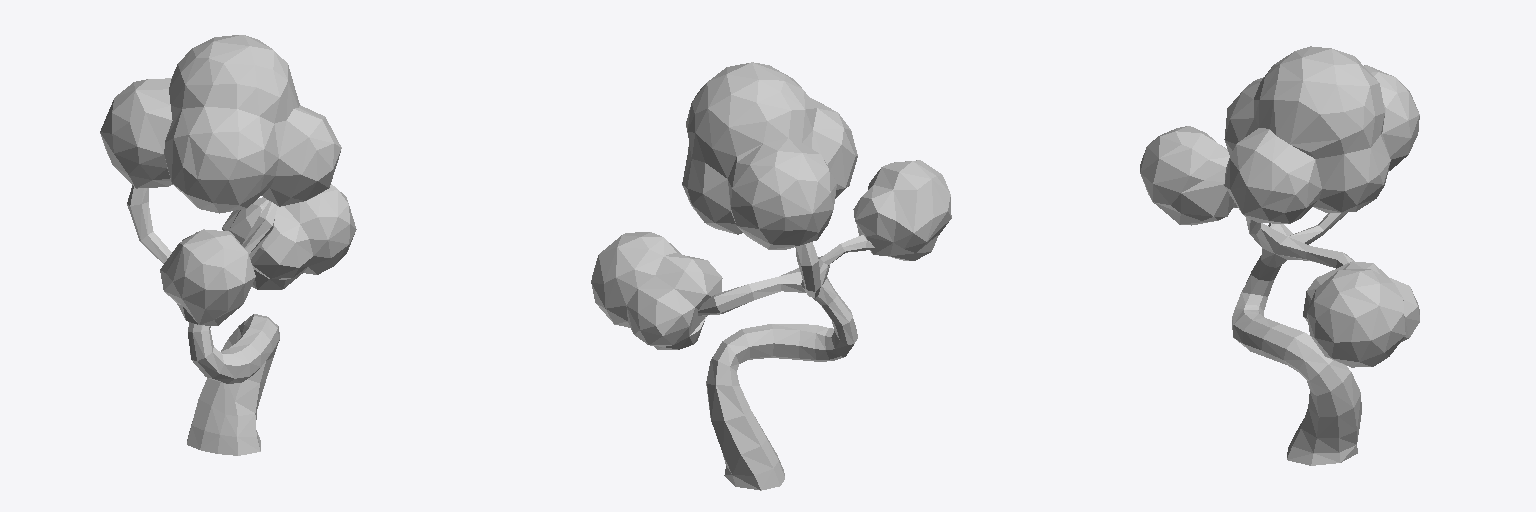
The model's file is tree3.obj.
3 renders of one model, left to right at view 1: azimuth 30°, elevation 25°; view 2: azimuth 150°, elevation 25°; view 3: azimuth 270°, elevation 25°, orthographic.
Parts seen in each view (by area): view 1: LowPoly_Tree_06_lowpoly_tree_02_Mesh.005; view 2: LowPoly_Tree_06_lowpoly_tree_02_Mesh.005; view 3: LowPoly_Tree_06_lowpoly_tree_02_Mesh.005.
Boxes of the visible parts, box(x1,y1,x2,y2) form: LowPoly_Tree_06_lowpoly_tree_02_Mesh.005: box(100, 35, 356, 455); LowPoly_Tree_06_lowpoly_tree_02_Mesh.005: box(591, 62, 951, 490); LowPoly_Tree_06_lowpoly_tree_02_Mesh.005: box(1140, 46, 1419, 465).
Bounding box in the file's own units: 2.55 × 3.72 × 2.36.